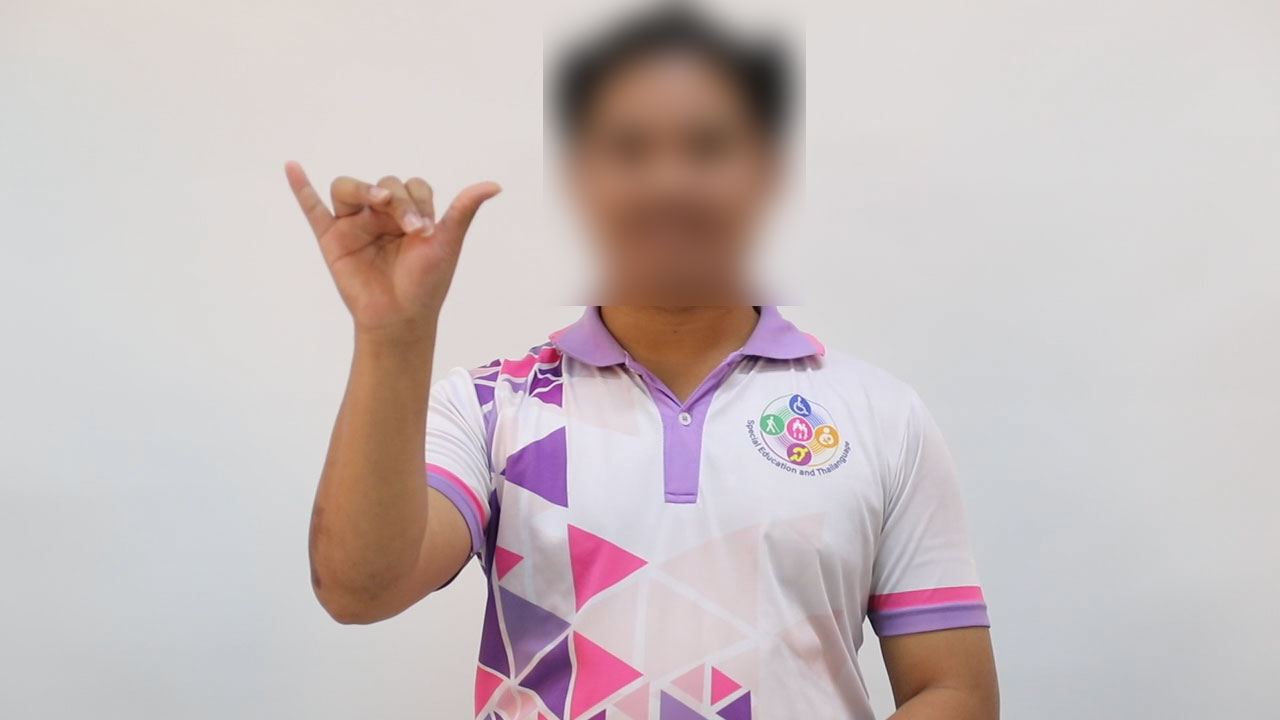yor: (264, 147, 514, 347)
